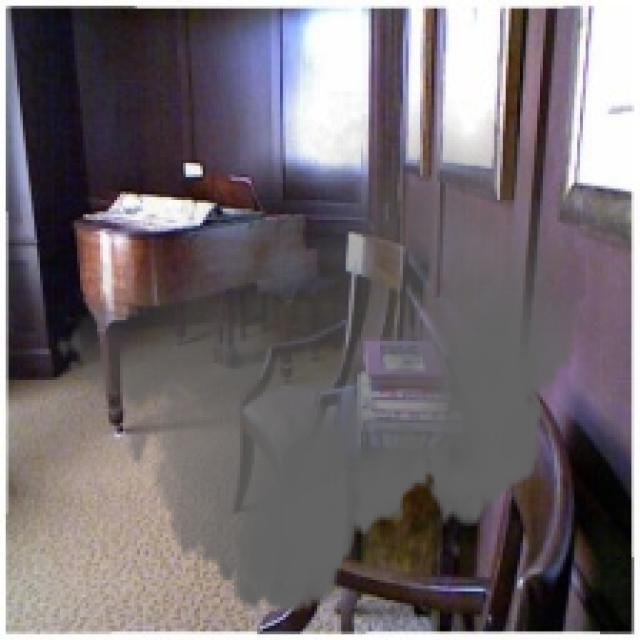smoke: (54, 91, 586, 632)
